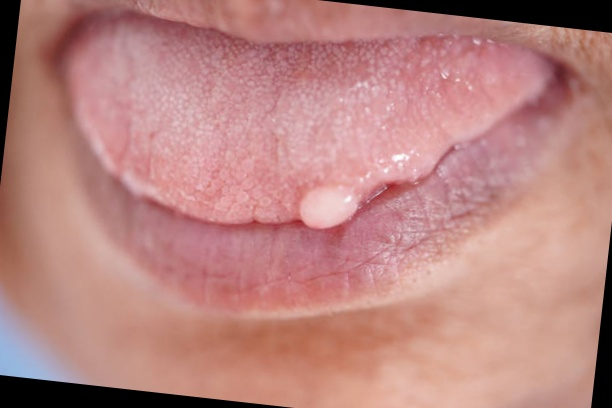Ulcer: (296, 179, 374, 245)
